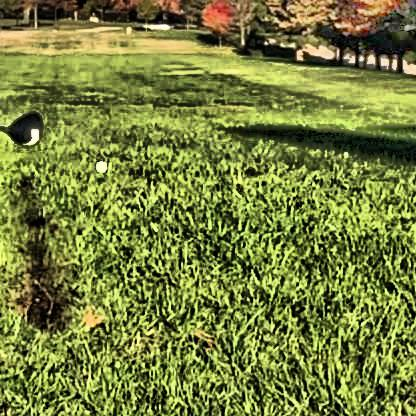golfball: (92, 156, 106, 171)
